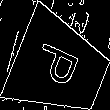P_SE: (31, 40, 88, 94)
